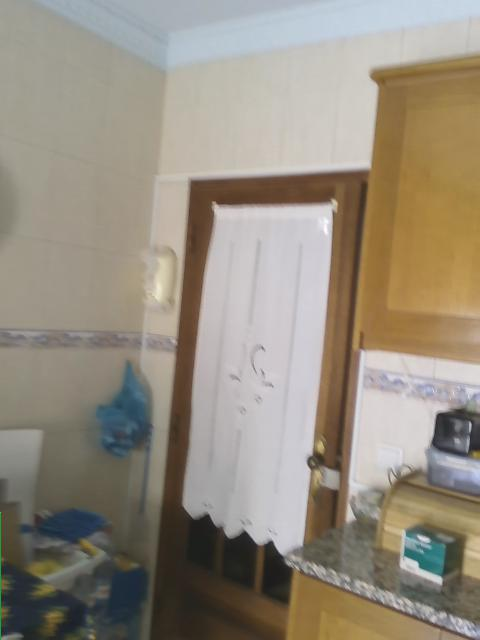closed_door: (150, 170, 361, 638)
